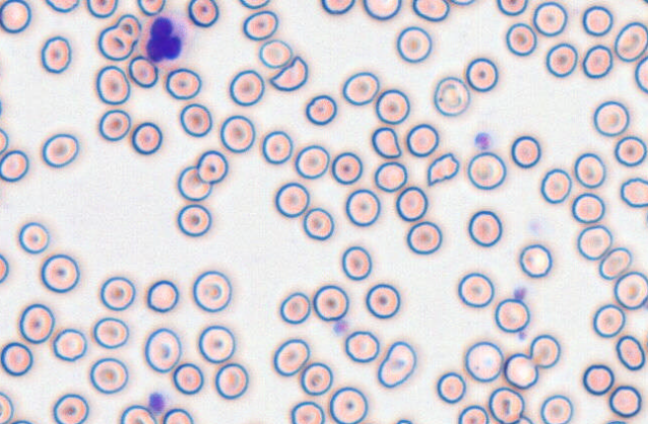GRAN: (138, 10, 190, 66)
PLT: (474, 132, 495, 151), (148, 390, 166, 412), (331, 319, 352, 337), (511, 286, 528, 302)
RBC: (144, 327, 181, 373), (192, 270, 231, 312), (40, 253, 80, 293), (464, 341, 503, 382), (18, 303, 55, 344), (467, 151, 506, 189), (433, 76, 470, 116), (272, 338, 310, 376), (89, 357, 128, 394), (198, 324, 235, 363), (329, 386, 367, 423), (219, 114, 255, 153), (312, 284, 349, 321), (396, 25, 432, 63), (95, 65, 130, 104), (614, 21, 647, 62), (488, 386, 524, 423), (228, 69, 264, 106), (41, 132, 79, 167), (467, 209, 502, 247), (345, 188, 380, 226), (576, 224, 612, 260), (593, 100, 629, 136), (503, 352, 538, 389), (97, 25, 134, 60), (457, 272, 494, 307), (613, 271, 647, 309), (494, 298, 530, 333), (177, 165, 212, 201), (274, 181, 309, 217), (532, 0, 567, 36), (99, 276, 135, 311), (214, 362, 248, 399), (342, 71, 379, 105), (294, 144, 329, 179), (365, 283, 400, 318), (406, 220, 442, 254), (375, 88, 409, 124), (52, 327, 87, 361), (395, 185, 428, 221), (92, 316, 129, 348), (40, 35, 71, 73), (598, 246, 632, 280), (299, 361, 333, 395), (0, 341, 33, 376), (344, 330, 379, 363), (519, 243, 552, 278), (176, 203, 211, 236), (179, 102, 212, 137), (545, 42, 578, 77), (465, 57, 498, 92), (165, 67, 201, 99), (574, 152, 606, 188), (592, 303, 625, 337), (406, 123, 439, 157), (196, 149, 228, 184), (52, 393, 89, 423), (608, 384, 641, 417), (98, 108, 131, 141), (146, 279, 179, 312), (261, 130, 293, 164), (505, 22, 537, 56), (529, 333, 560, 368), (540, 168, 571, 203), (341, 245, 372, 280), (242, 10, 278, 40), (615, 334, 645, 370), (302, 207, 334, 240), (279, 291, 311, 324), (331, 151, 362, 185), (131, 121, 162, 155), (571, 192, 605, 223), (582, 44, 613, 78), (582, 363, 614, 395), (0, 0, 31, 33), (374, 161, 407, 192), (172, 362, 203, 395), (127, 55, 158, 88), (18, 221, 49, 254), (510, 135, 541, 168), (304, 94, 337, 125), (258, 38, 292, 68), (614, 135, 646, 166), (539, 394, 573, 423), (582, 5, 613, 36), (436, 371, 466, 403), (0, 149, 29, 182), (187, 0, 219, 27), (620, 177, 647, 208), (289, 400, 325, 423), (411, 0, 449, 21), (362, 0, 401, 20), (119, 404, 157, 423), (115, 13, 141, 40), (457, 404, 488, 423), (86, 0, 117, 18), (162, 407, 193, 423), (496, 0, 527, 16), (634, 55, 647, 93), (320, 0, 355, 14), (136, 0, 165, 16), (44, 0, 79, 13), (0, 391, 14, 423), (238, 0, 270, 9), (0, 253, 9, 283), (0, 127, 8, 154), (512, 415, 533, 423), (448, 0, 475, 6), (9, 419, 33, 424), (643, 207, 648, 230), (604, 419, 627, 424), (395, 418, 413, 423), (0, 96, 3, 118)
Schistocyte: (377, 339, 418, 389), (269, 55, 310, 92), (425, 154, 460, 185), (372, 126, 402, 159)
